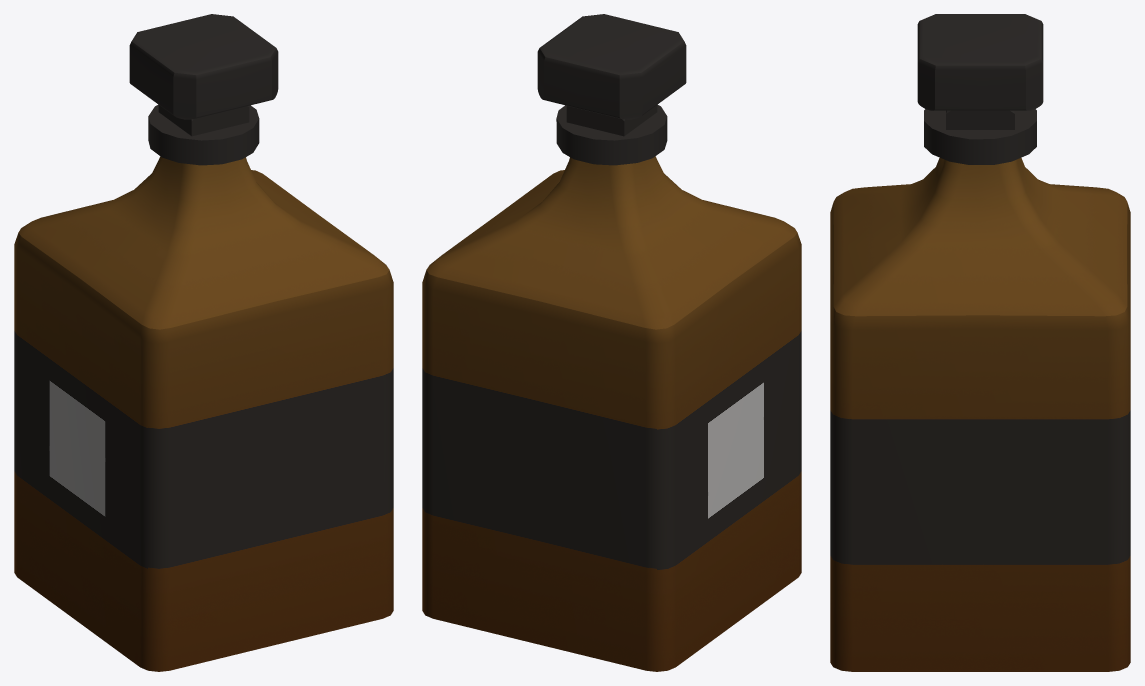
Rendered from WhiskeyBottle.fbx.
The picture shows the model from 3 angles, left to right: view 1: azimuth 30°, elevation 25°; view 2: azimuth 150°, elevation 25°; view 3: azimuth 270°, elevation 25°; orthographic projection. The views are drawn at different scales.
Visible parts, largest first — view 1: T_WhiskeyBottle_80s; view 2: T_WhiskeyBottle_80s; view 3: T_WhiskeyBottle_80s.
Boxes of the visible parts, box(x1,y1,x2,y2) form: T_WhiskeyBottle_80s: box(14, 14, 393, 671); T_WhiskeyBottle_80s: box(422, 14, 801, 671); T_WhiskeyBottle_80s: box(830, 14, 1130, 671).
Size of the model in its own units: 3.7 by 7.87 by 3.7.
